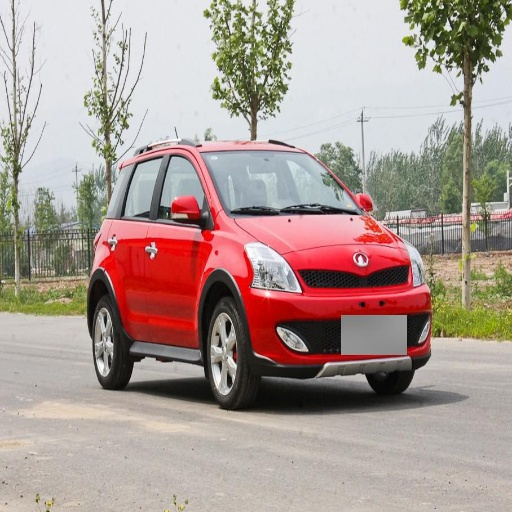front_bumper: (247, 268, 406, 375)
front_right_door: (149, 150, 210, 342)
front_right_light: (245, 244, 298, 293)
hood: (235, 214, 410, 275)
tailgate: (336, 266, 410, 316)
